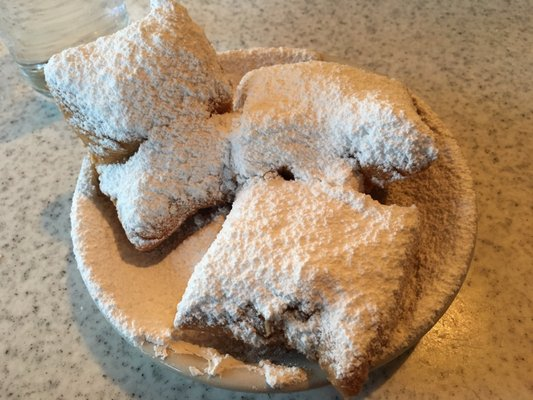curry: (32, 0, 453, 397)
salad: (156, 60, 480, 399)
